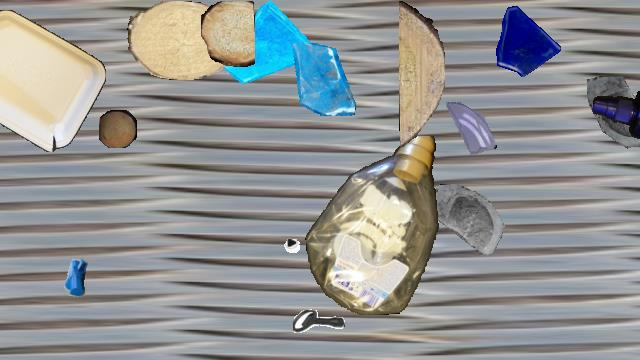glass: (224, 1, 314, 91), (433, 182, 517, 266), (487, 1, 563, 77), (286, 43, 358, 115), (585, 76, 640, 162), (441, 101, 499, 159)
metal: (46, 246, 104, 304), (247, 199, 305, 257), (293, 297, 345, 349)
plastic: (305, 136, 441, 314), (0, 10, 106, 152), (593, 90, 640, 172)
wood: (127, 1, 233, 79), (399, 1, 445, 147), (201, 1, 255, 67), (99, 110, 137, 148)
